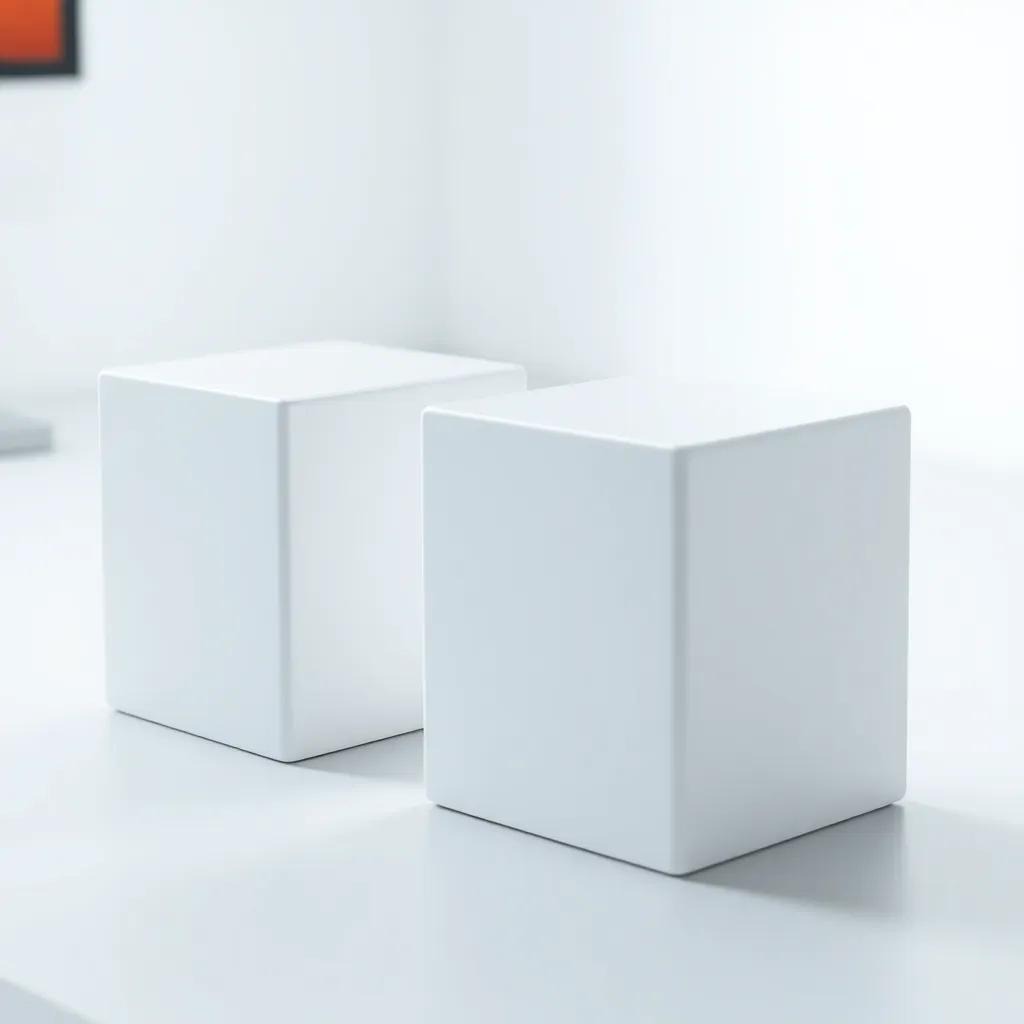cube: (420, 369, 911, 877), (97, 337, 526, 763)
